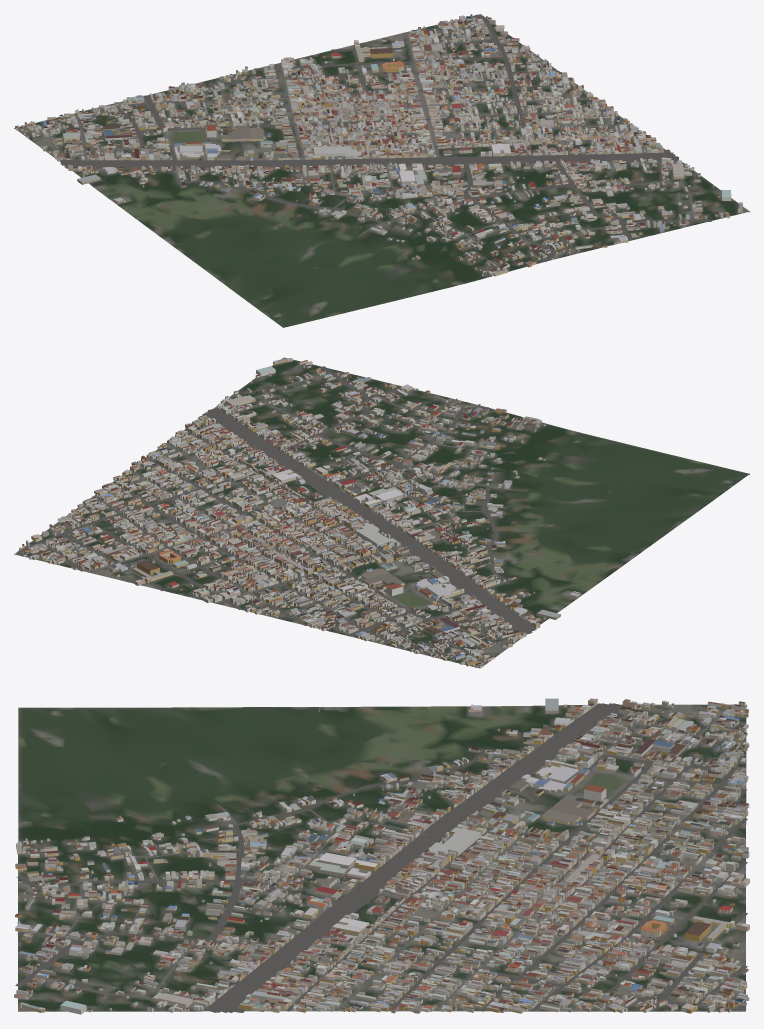
3 views of the same model, one above another, from view 1: azimuth 30°, elevation 25°; view 2: azimuth 150°, elevation 25°; view 3: azimuth 270°, elevation 25° (orthographic). The views are drawn at different scales.
Visible parts, largest first — view 1: ground, buildings, roads; view 2: ground, buildings, roads; view 3: ground, buildings, roads.
Part boxes in pixels (x1,y1,x2,y2): ground: [14, 14, 749, 327]; buildings: [15, 14, 742, 276]; roads: [19, 14, 711, 271]; ground: [14, 357, 749, 668]; buildings: [19, 358, 580, 668]; roads: [17, 366, 637, 664]; ground: [18, 704, 746, 1011]; buildings: [14, 698, 749, 1014]; roads: [15, 703, 747, 1012].
Size of the model in its own units: 1430 by 30.19 by 1416.
